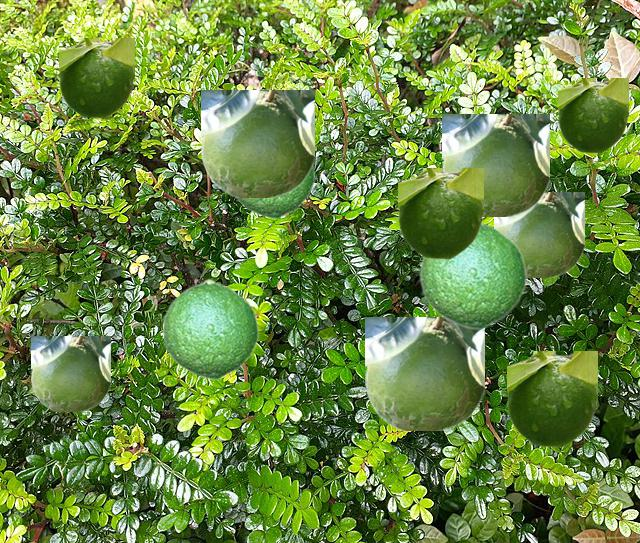dalandan: (365, 317, 483, 429), (201, 90, 313, 196), (418, 220, 526, 329), (442, 114, 548, 215), (161, 278, 258, 379), (507, 351, 596, 446), (398, 168, 482, 258), (494, 192, 583, 276), (59, 38, 133, 117), (31, 336, 109, 410), (558, 78, 627, 152), (234, 165, 314, 218)
